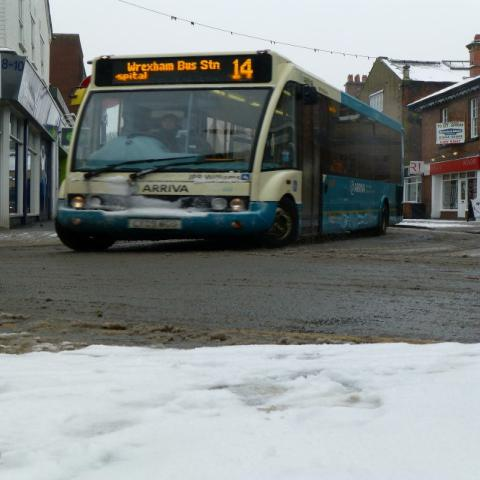bus: (58, 57, 418, 256)
